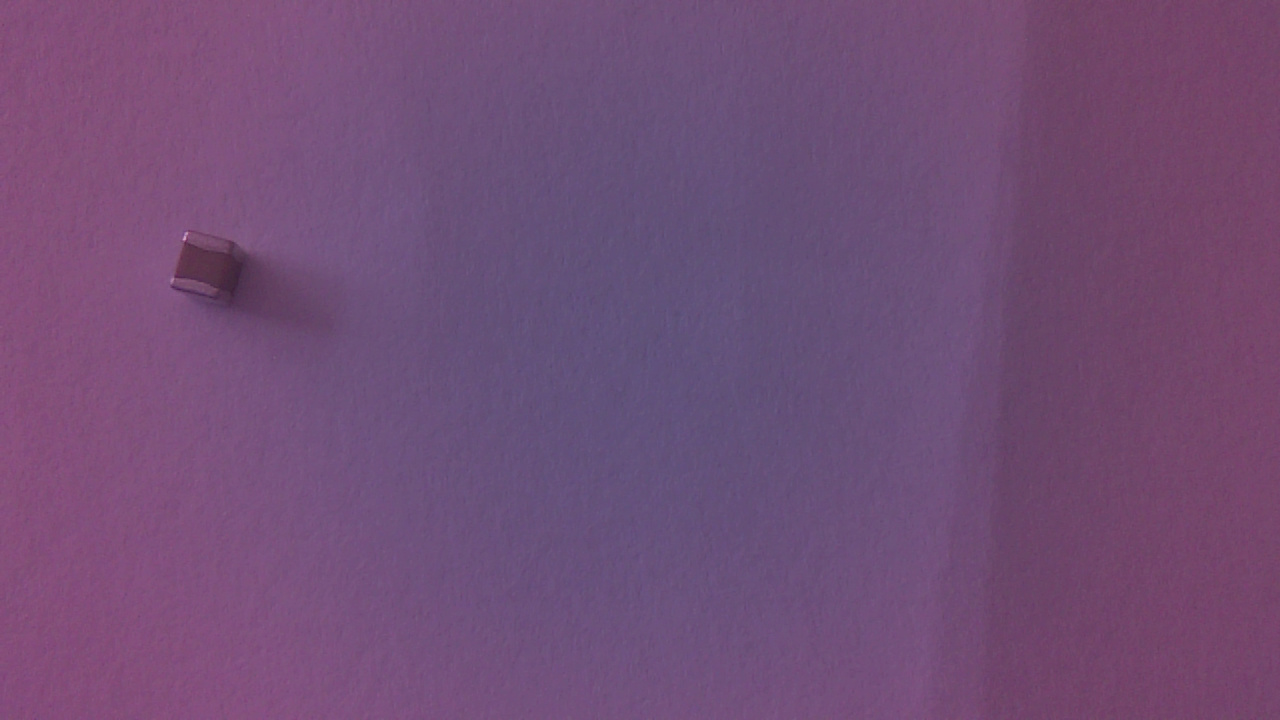Condensator: (170, 230, 246, 315)
